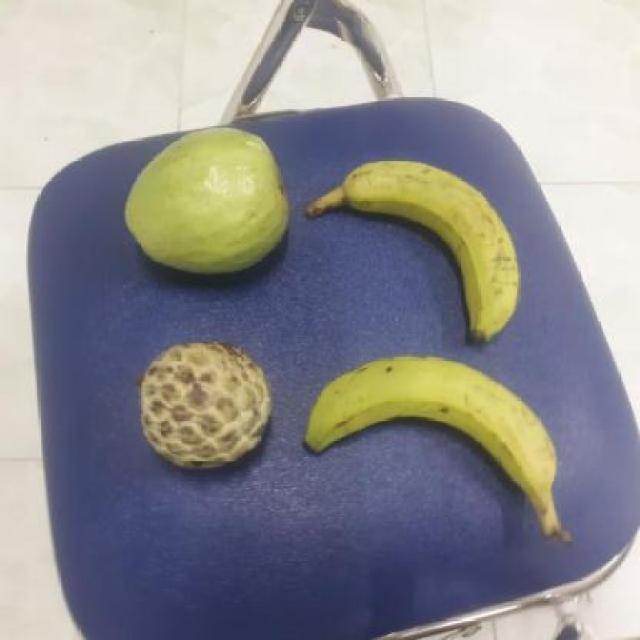banana: (294, 354, 555, 518), (298, 162, 524, 342)
guava: (118, 124, 290, 274)
sugar apple: (131, 341, 272, 468)
